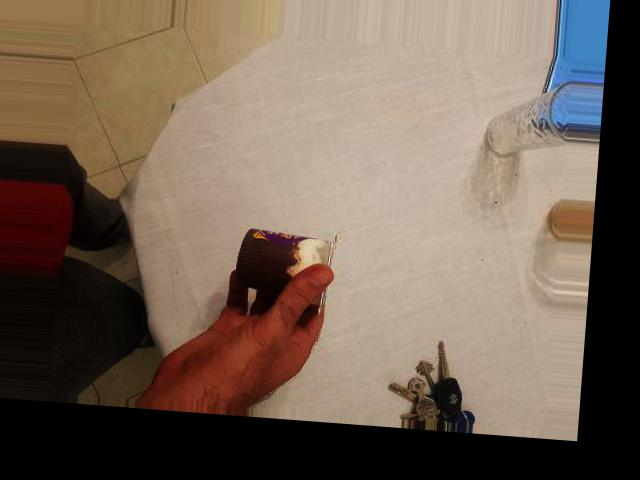milky: (284, 84, 387, 202)
